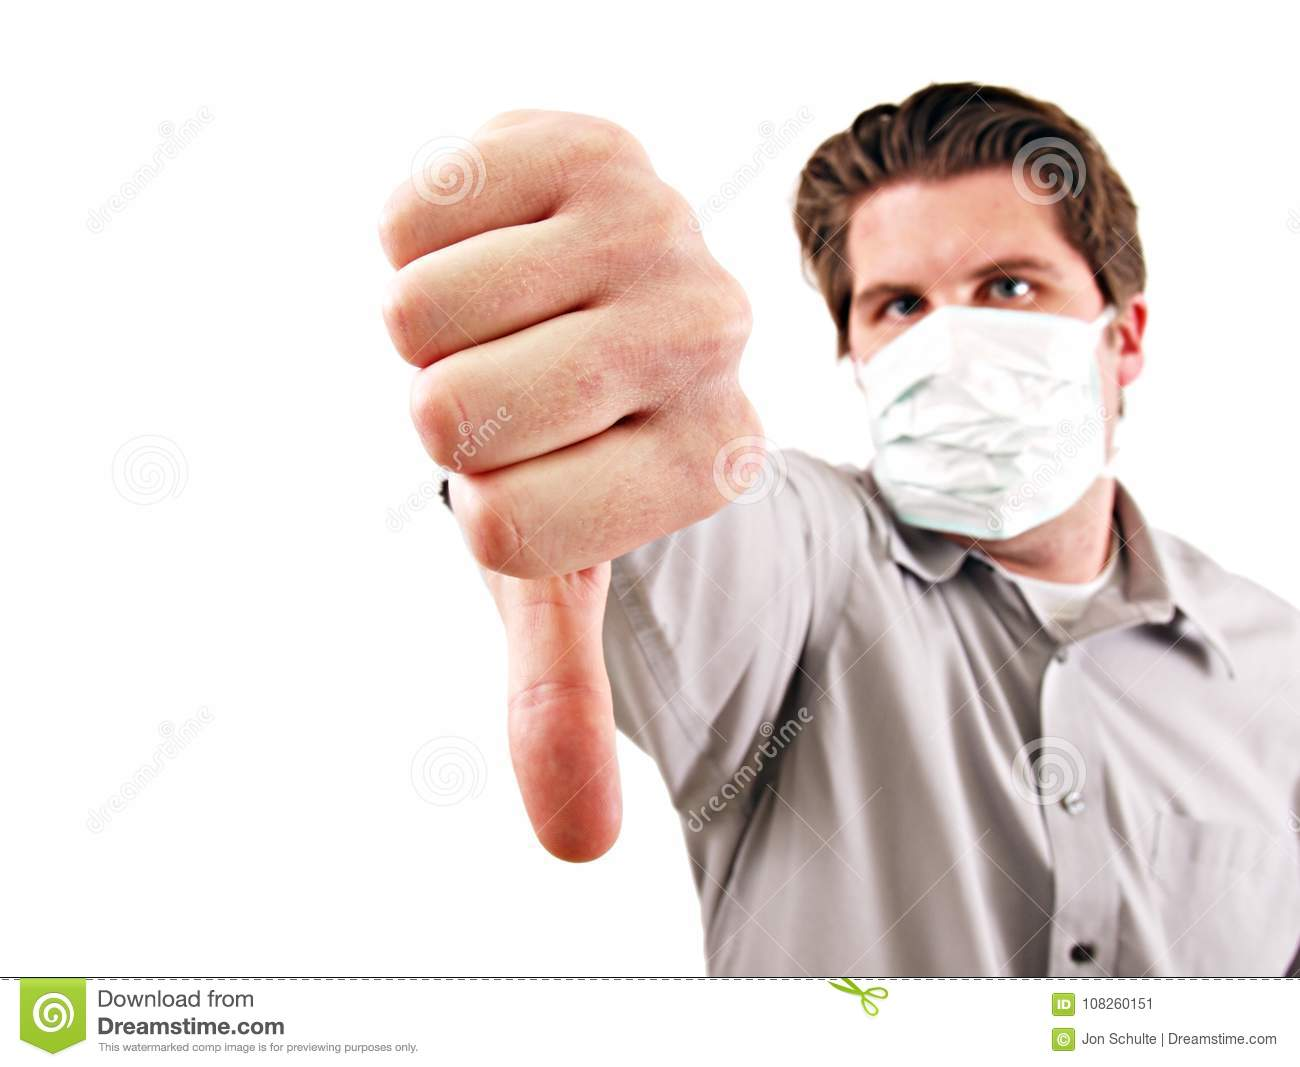mask: (859, 306, 1118, 537)
